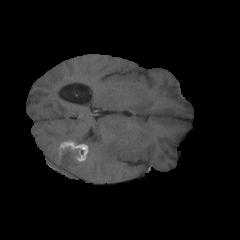glioma: (43, 127, 122, 177)
